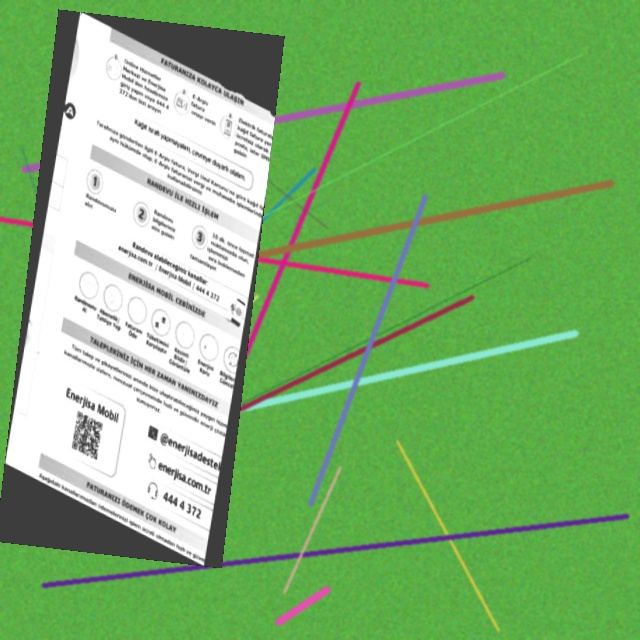electricity-bill: (0, 9, 284, 567)
